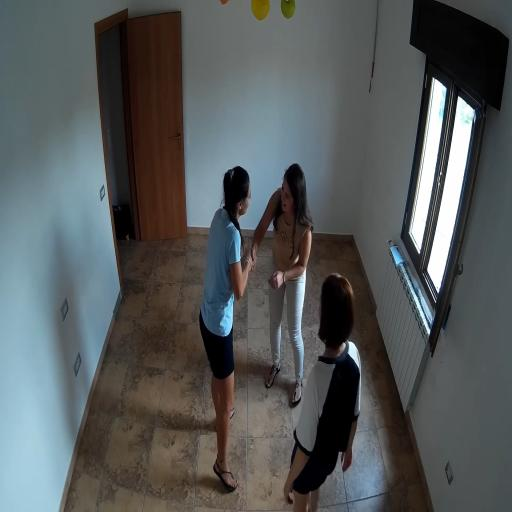nao-violencia: (191, 153, 320, 497)
